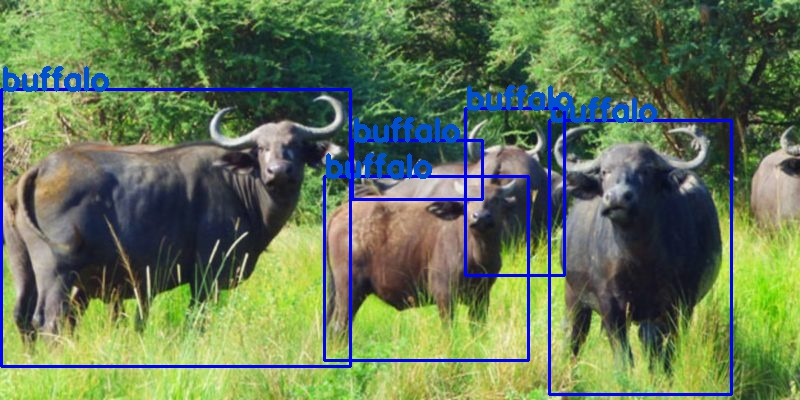buffalo: (1, 89, 350, 366), (549, 120, 731, 394), (324, 176, 528, 360), (465, 108, 564, 275), (352, 140, 482, 199)
